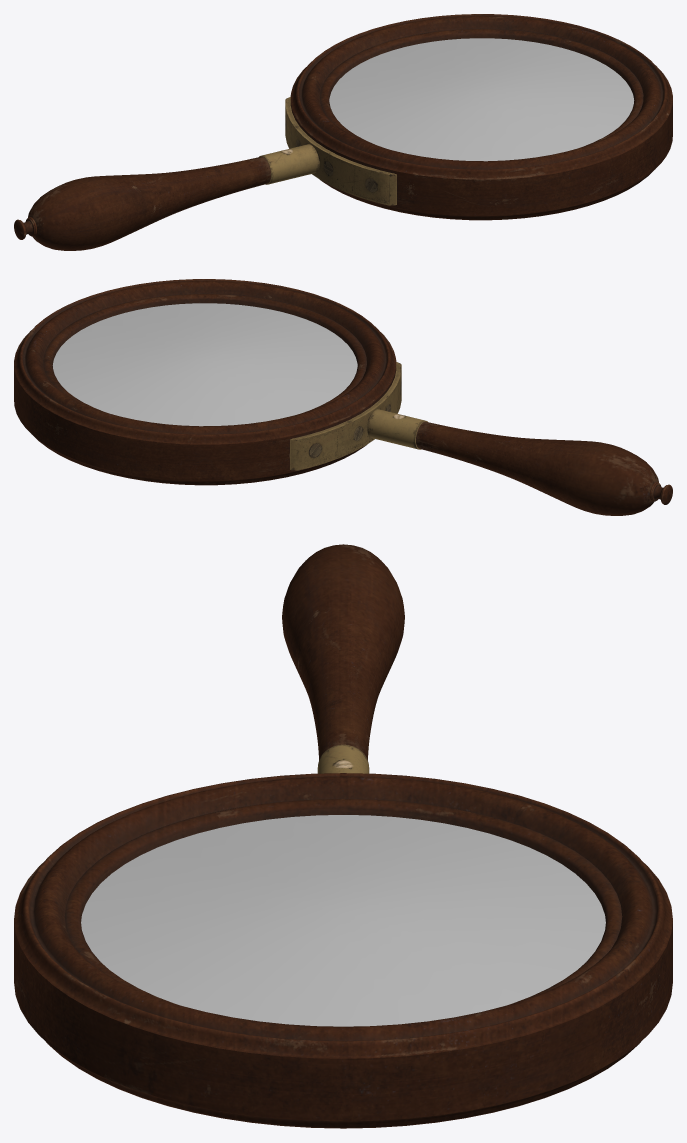
The model's file is SM_MagnifyingGlass_01.fbx.
The picture shows the model from 3 angles, top to bottom: view 1: azimuth 30°, elevation 25°; view 2: azimuth 150°, elevation 25°; view 3: azimuth 270°, elevation 25°; orthographic projection. The views are drawn at different scales.
Parts seen in each view (by area): view 1: SM_MagnifyingGlass_01_LOD0; view 2: SM_MagnifyingGlass_01_LOD0; view 3: SM_MagnifyingGlass_01_LOD0.
Part boxes in pixels (x1,y1,x2,y2): SM_MagnifyingGlass_01_LOD0: [14, 14, 672, 250]; SM_MagnifyingGlass_01_LOD0: [14, 279, 672, 515]; SM_MagnifyingGlass_01_LOD0: [14, 544, 672, 1128].
Bounding box in the file's own units: 52.41 × 27.58 × 5.15.
Materials: 2 (2 with a texture image).
